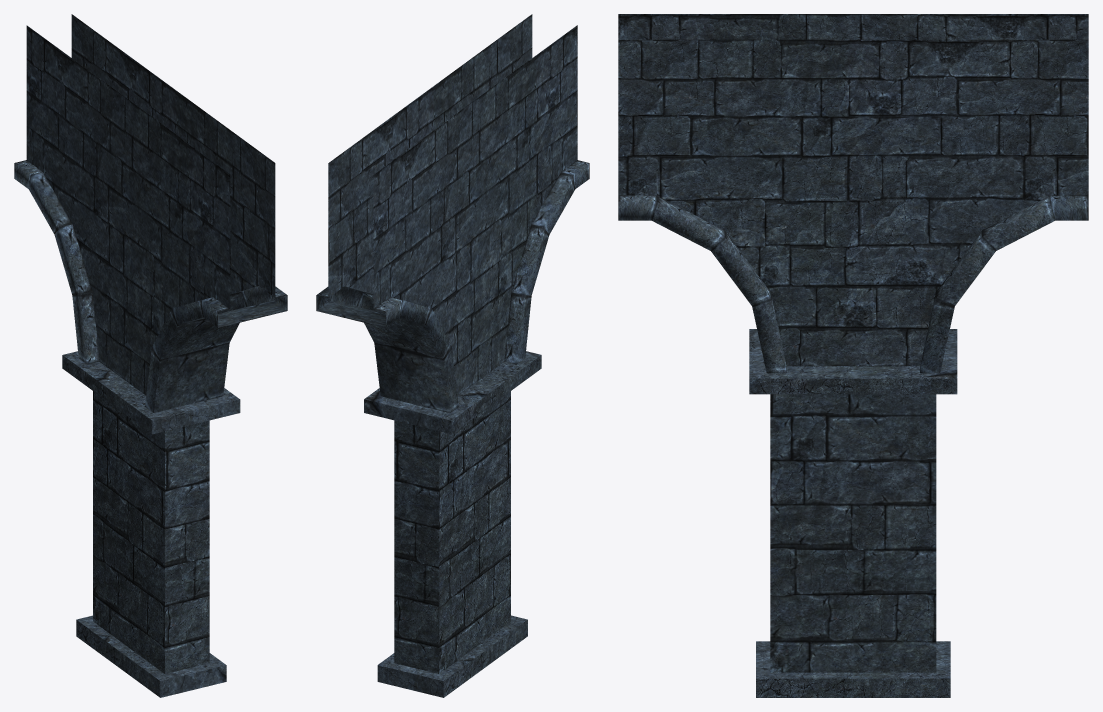
The model's file is Arch_middle.FBX.
The picture shows the model from 3 angles, left to right: view 1: azimuth 30°, elevation 25°; view 2: azimuth 150°, elevation 25°; view 3: azimuth 270°, elevation 25°; orthographic projection. The views are drawn at different scales.
Visible parts, largest first — view 1: Arch_middle; view 2: Arch_middle; view 3: Arch_middle.
Boxes of the visible parts, box(x1,y1,x2,y2) form: Arch_middle: box(14, 14, 287, 697); Arch_middle: box(316, 14, 589, 697); Arch_middle: box(618, 14, 1088, 697).
Bounding box in the file's own units: 11.42 × 70.27 × 45.92.
